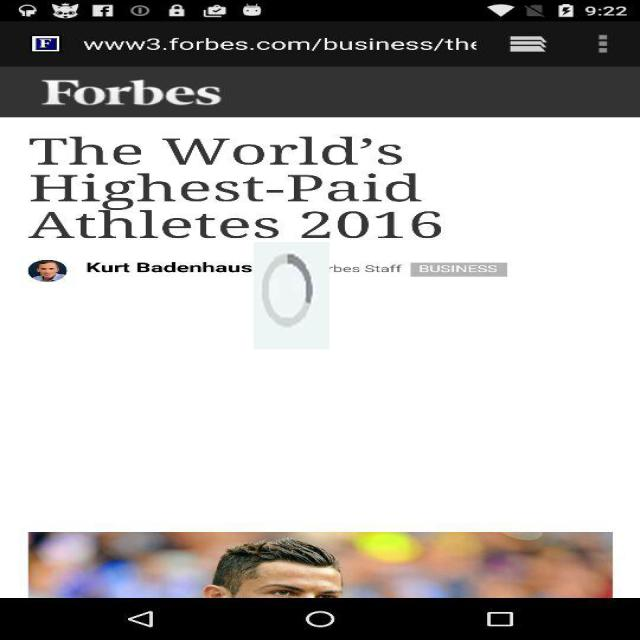misdirection: (253, 242, 329, 349)
